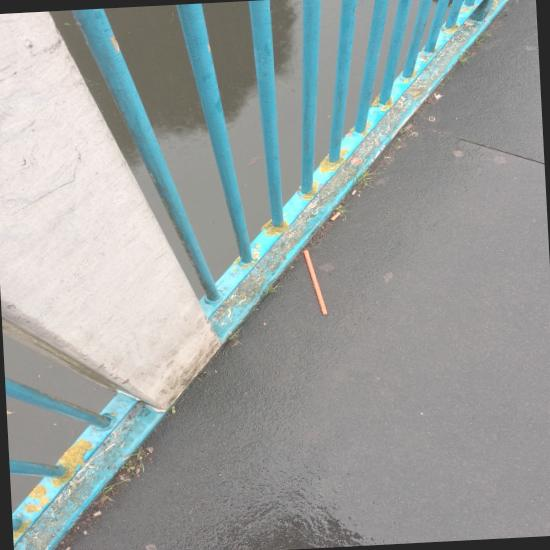Cigarette: (330, 212, 341, 221), (65, 547, 71, 550)
Plastic straw: (303, 250, 327, 315)
